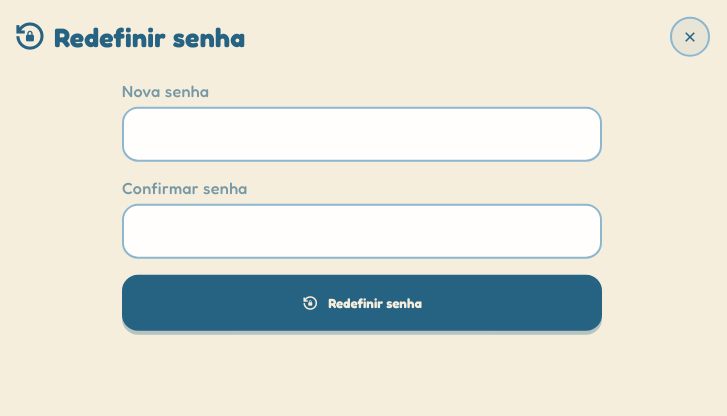
Test: ResetPassword › mostra o erro devolvido pelo backend
In the password field labelled "Nova senha": (362, 134) [122,107,602,162], type "novaSenha123"
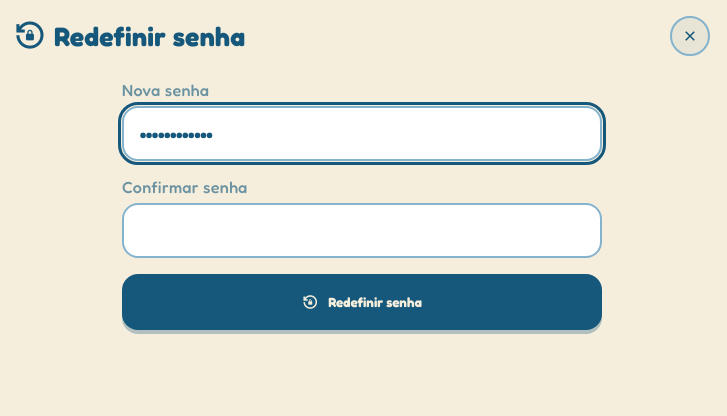
In the password field labelled "Confirmar senha": (362, 230) [122,203,602,258], type "novaSenha123"
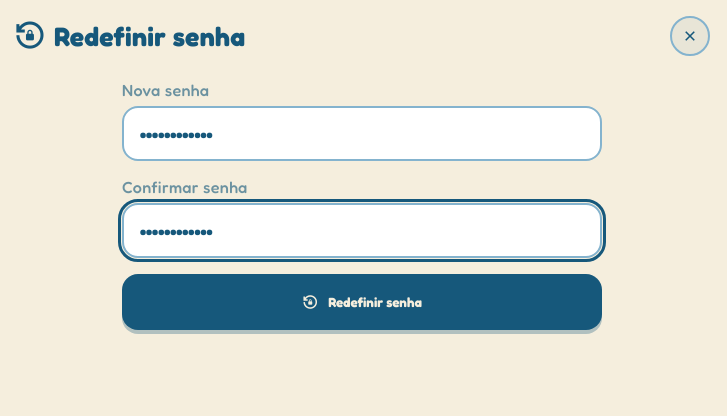
Click the button "Redefinir senha": (362, 302) [122,274,602,330]
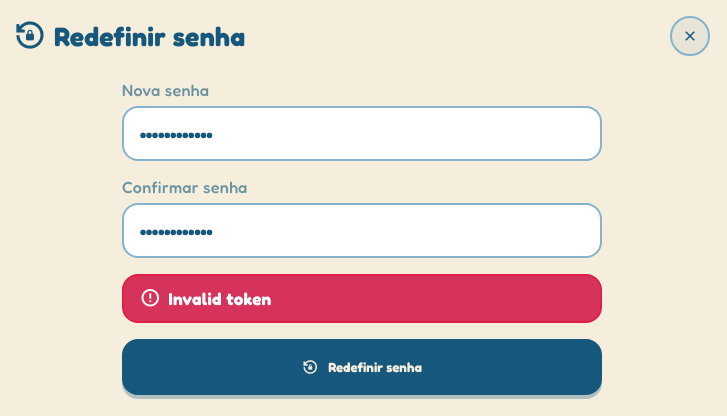
Now the message reads "Invalid token", box [168,288,272,309]
